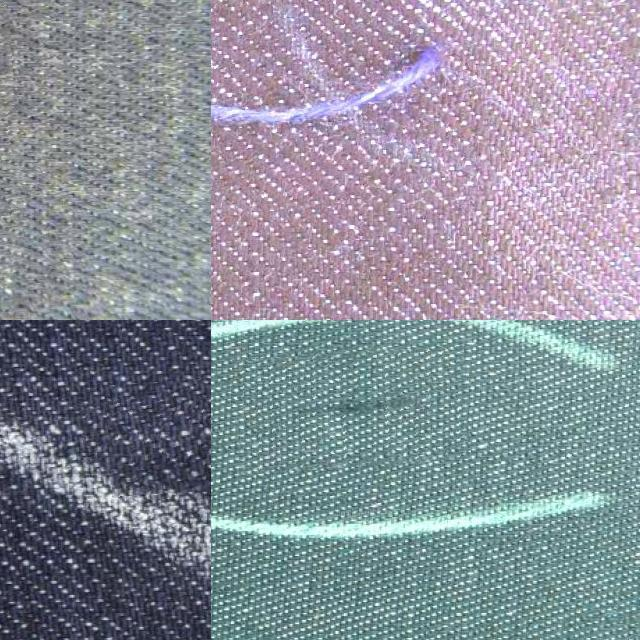stains: (211, 0, 487, 217), (232, 348, 468, 470), (106, 367, 211, 491)
